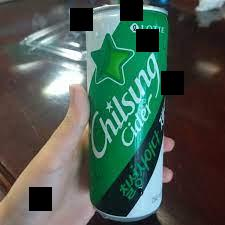chilsungcider_zero: (81, 6, 174, 217)
